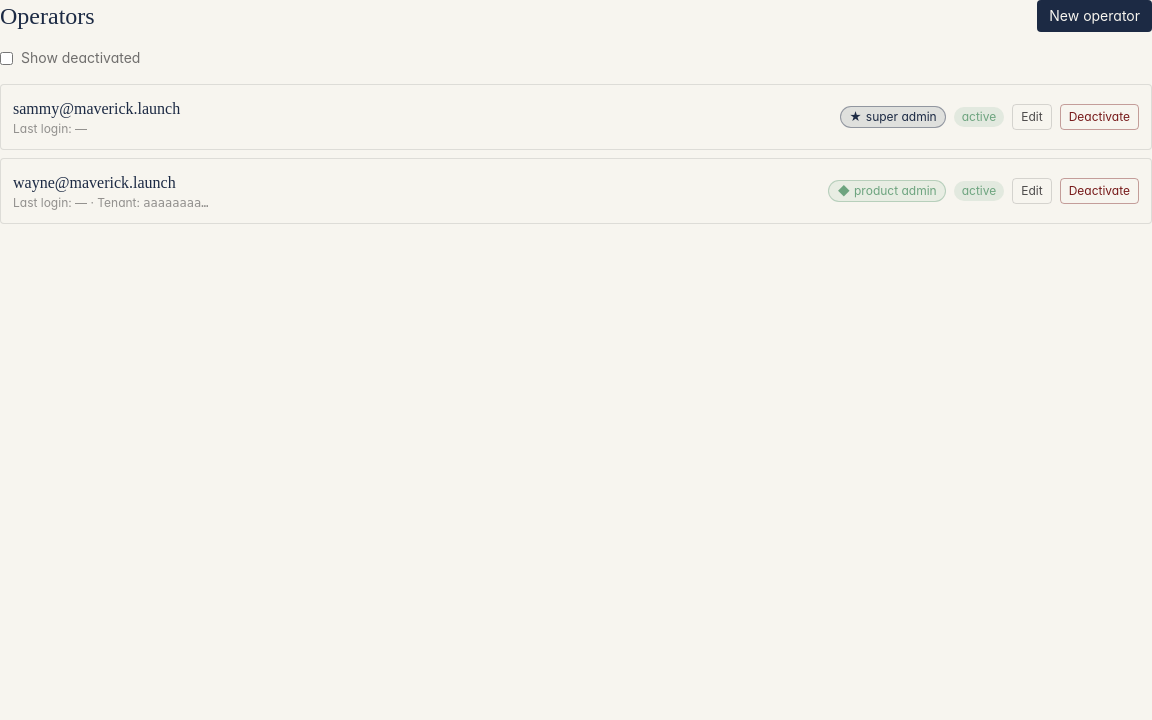
OperatorsManager (HUB-1663) › Edit modal + last-super_admin protection › editing the currently-logged-in super_admin disables the role dropdown with helper text
This screenshot has width=1152, height=720.
Expected: the element with test id "operators-manager-page" is shown, [0,0,1151,224]
Click the button with test id "operators-edit-op-me" at (1032, 117), box [1012,104,1052,130]
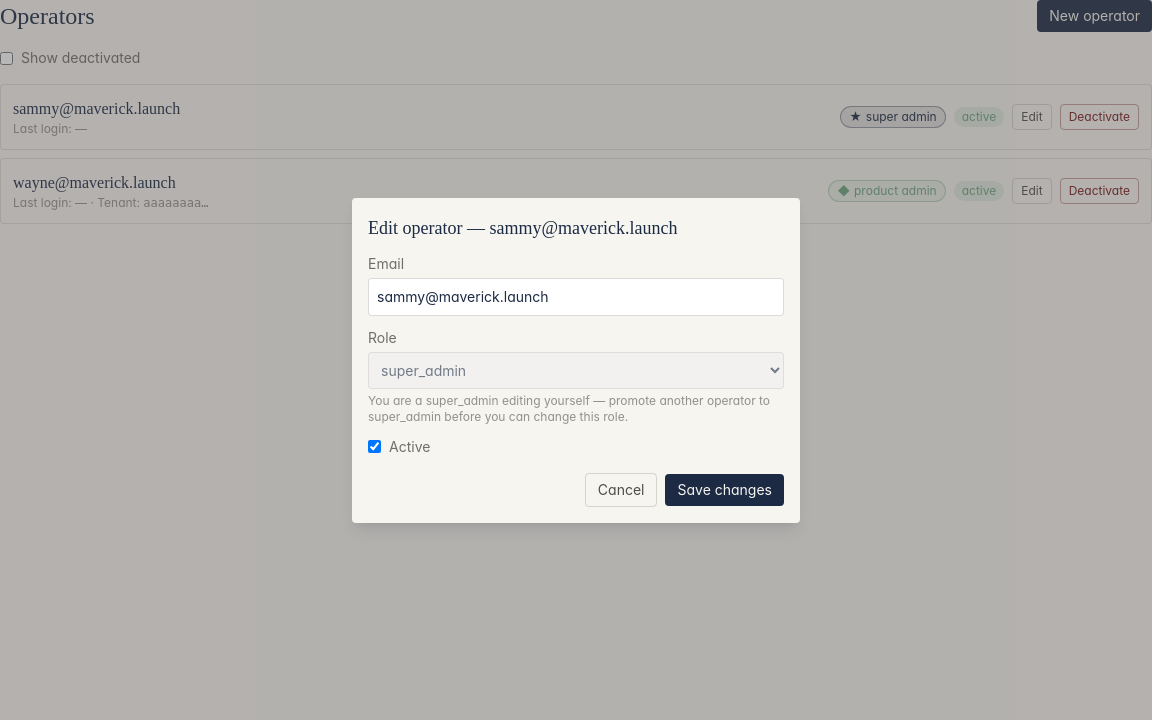
Expected: the text with test id "edit-operator-role-locked" is shown, [368,392,784,424]
Expected: the dropdown with test id "edit-operator-role" is disabled, [368,352,784,388]
